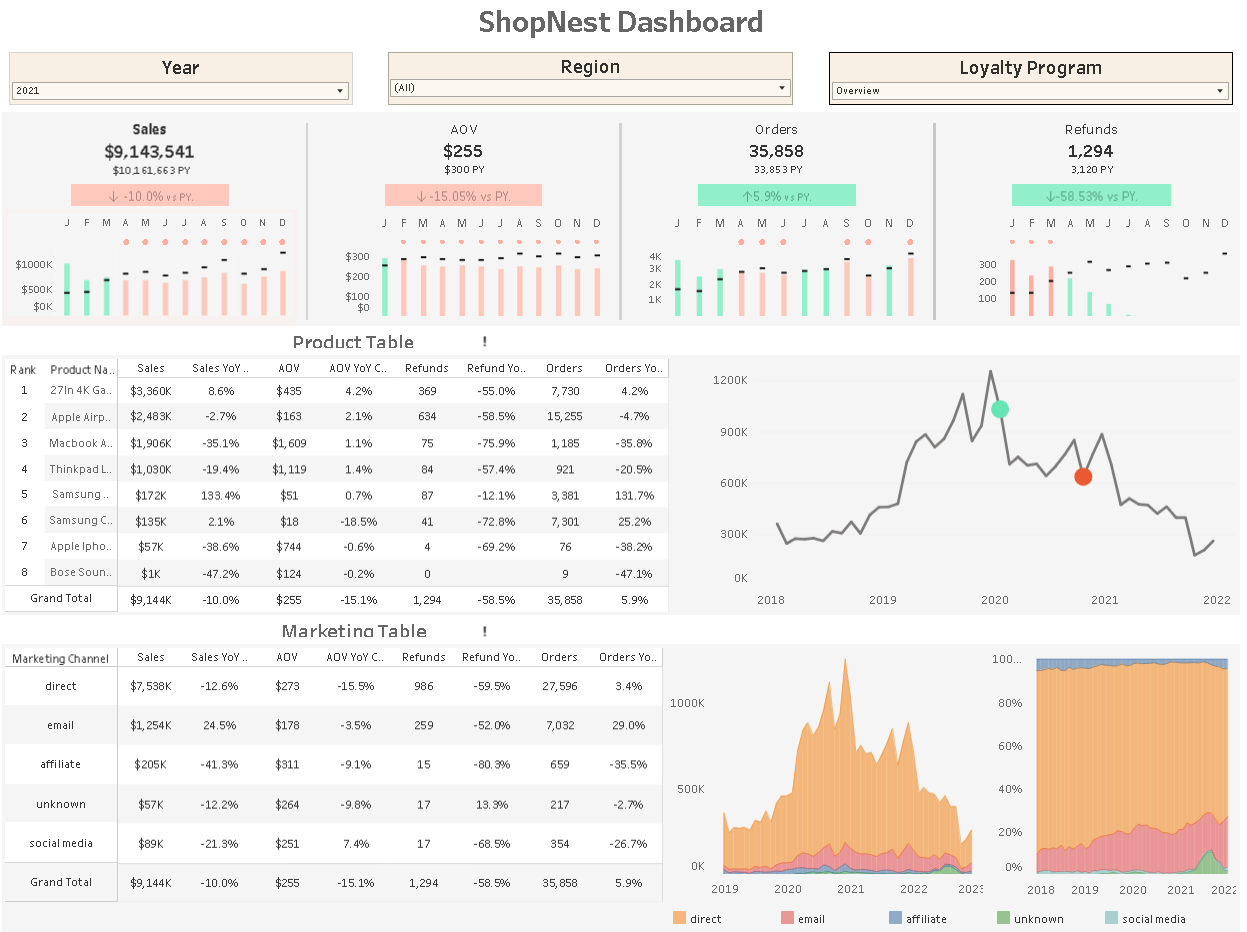

This screenshot's page, from the dashboard's own definition file:
{"tool":"tableau","page":{"name":"E-Commerce Dashboard","canvas":[1466,1068],"ordinal":0},"visuals":[{"type":"blank","box":[8,8,37,1052]},{"type":"text","box":[45,8,1375.8,54]},{"type":"blank","box":[1420.8,8,37.2,1052]},{"type":"parameter","param":"[Parameters].[Parameter 1]","box":[49,66,390,67]},{"type":"blank","box":[439,66,32,67]},{"type":"filter","title":"Sales Text","param":"[federated.0xa2xj31ri3njg17zrqng1dpn05a].[none:REGION:nk]","box":[471,66,456.9,67]},{"type":"blank","box":[927.9,66,32,67]},{"type":"parameter","param":"[Parameters].[Year Selected (copy)_1142506971504132098]","box":[959.9,66,456.9,67]},{"type":"worksheet","title":"Sales Text","mark":"Automatic","box":[47,139,325.7,74]},{"type":"blank","box":[372.7,139,23,234]},{"type":"worksheet","title":"AOV Text","mark":"Automatic","box":[395.7,139,325.7,74]},{"type":"blank","box":[721.4,139,23,234]},{"type":"worksheet","title":"Orders Text","mark":"Automatic","box":[744.4,139,325.7,74]},{"type":"blank","box":[1070.1,139,23,234]},{"type":"worksheet","title":"Refund Text","mark":"Automatic","box":[1093.1,139,325.7,74]},{"type":"blank","box":[47,213,71,32]},{"type":"worksheet","title":"Sales BTN","mark":"Square","box":[118,213,183.7,32]},{"type":"blank","box":[301.7,213,71,32]},{"type":"blank","box":[395.7,213,71,32]},{"type":"worksheet","title":"AOV BTN","mark":"Square","box":[466.7,213,183.7,32]},{"type":"blank","box":[650.4,213,71,32]},{"type":"blank","box":[744.4,213,71,32]},{"type":"worksheet","title":"Orders BTN","mark":"Square","box":[815.4,213,183.7,32]},{"type":"blank","box":[999.1,213,71,32]},{"type":"blank","box":[1093.1,213,71,32]},{"type":"worksheet","title":"Refund BTN","mark":"Square","box":[1164.1,213,183.7,32]},{"type":"blank","box":[1347.8,213,71,32]},{"type":"worksheet","title":"Sales Graph","mark":"Bar","rows":["Calculation_974466410042851328","Selected Year (copy)_974466410043158529"],"cols":["PURCHASE_TS","YoY Change Sign (copy)_974466410044526596"],"box":[47,245,325.7,128]},{"type":"worksheet","title":"AOV Graph","mark":"GanttBar","rows":["Orders Selected Year (copy)_1273955785422471179","Orders Selected Previous Year (copy)_1273955785422450698"],"cols":["PURCHASE_TS","● < Sales (copy)_1273955785422213128"],"box":[395.7,245,325.7,128]},{"type":"worksheet","title":"Orders Graph","mark":"Automatic","rows":["Selected Sales Year (copy)_1273955785416581127","Sales Previous Year  (copy)_1273955785416327171"],"cols":["PURCHASE_TS","● < Sales (copy)_1273955785415774208"],"box":[744.4,245,325.7,128]},{"type":"worksheet","title":"Refund Graph","mark":"Automatic","rows":["Refund Year (copy)_1020628307801571330","Refund Selected Year  (copy)_1020628307802804227"],"cols":["START_OF_PURCHASE_MONTH","● < Sales (copy)_1020628307807887366"],"box":[1093.1,245,325.7,128]},{"type":"blank","box":[49,379,258.4,32]},{"type":"text","box":[307.4,379,258.4,32]},{"type":"worksheet","title":"Product Info Button","mark":"Shape","box":[565.8,379,32,32]},{"type":"blank","box":[597.8,379,819,32]},{"type":"worksheet","title":"Products Table","mark":"Automatic","rows":["Calculation_1343198631543824384","PRODUCT_NAME"],"box":[45,415,746,281.5]},{"type":"worksheet","title":"Updated Product Graph","mark":"Automatic","rows":["Selected Sales Year (copy)_1098878351684214784","Max Selected Year (copy)_1439463073793093637"],"cols":["START_OF_PURCHASE_MONTH"],"box":[791,415,629.8,281.5]},{"type":"blank","box":[49,700.5,258.4,32]},{"type":"text","box":[307.4,700.5,258.4,32]},{"type":"worksheet","title":"Marketing Info Button","mark":"Shape","box":[565.8,700.5,32,32]},{"type":"blank","box":[597.8,700.5,819,32]},{"type":"worksheet","title":"Marketing Table","mark":"Automatic","rows":["MARKETING_CHANNEL"],"box":[45,736.5,739,281.5]},{"type":"worksheet","title":"Market Graph","mark":"Area","rows":["Selected Sales Year (copy)_1098878351684214784"],"cols":["START_OF_PURCHASE_MONTH"],"box":[784,736.5,357,281.5]},{"type":"worksheet","title":"Market Mix Graph","mark":"Area","cols":["START_OF_PURCHASE_MONTH"],"box":[1141,736.5,279.8,281.5]},{"type":"blank","box":[45,1018,739,42]},{"type":"legend","title":"Market Graph","param":"[federated.0xa2xj31ri3njg17zrqng1dpn05a].[none:MARKETING_CHANNEL:nk]","box":[784,1018,636.8,42]}]}

Visuals, with their boxes in screenshot pixels (x1, y1, x2, y2), scaled from the page's 1466x1068 canvas onto the 1247x932 screenshot:
blank: {"left": 7, "top": 7, "right": 38, "bottom": 925}
text: {"left": 38, "top": 7, "right": 1209, "bottom": 54}
blank: {"left": 1209, "top": 7, "right": 1240, "bottom": 925}
parameter: {"left": 42, "top": 58, "right": 373, "bottom": 116}
blank: {"left": 373, "top": 58, "right": 401, "bottom": 116}
"Sales Text" filter: {"left": 401, "top": 58, "right": 789, "bottom": 116}
blank: {"left": 789, "top": 58, "right": 817, "bottom": 116}
parameter: {"left": 817, "top": 58, "right": 1205, "bottom": 116}
"Sales Text" worksheet: {"left": 40, "top": 121, "right": 317, "bottom": 186}
blank: {"left": 317, "top": 121, "right": 337, "bottom": 326}
"AOV Text" worksheet: {"left": 337, "top": 121, "right": 614, "bottom": 186}
blank: {"left": 614, "top": 121, "right": 633, "bottom": 326}
"Orders Text" worksheet: {"left": 633, "top": 121, "right": 910, "bottom": 186}
blank: {"left": 910, "top": 121, "right": 930, "bottom": 326}
"Refund Text" worksheet: {"left": 930, "top": 121, "right": 1207, "bottom": 186}
blank: {"left": 40, "top": 186, "right": 100, "bottom": 214}
"Sales BTN" worksheet (Square marks): {"left": 100, "top": 186, "right": 257, "bottom": 214}
blank: {"left": 257, "top": 186, "right": 317, "bottom": 214}
blank: {"left": 337, "top": 186, "right": 397, "bottom": 214}
"AOV BTN" worksheet (Square marks): {"left": 397, "top": 186, "right": 553, "bottom": 214}
blank: {"left": 553, "top": 186, "right": 614, "bottom": 214}
blank: {"left": 633, "top": 186, "right": 694, "bottom": 214}
"Orders BTN" worksheet (Square marks): {"left": 694, "top": 186, "right": 850, "bottom": 214}
blank: {"left": 850, "top": 186, "right": 910, "bottom": 214}
blank: {"left": 930, "top": 186, "right": 990, "bottom": 214}
"Refund BTN" worksheet (Square marks): {"left": 990, "top": 186, "right": 1146, "bottom": 214}
blank: {"left": 1146, "top": 186, "right": 1207, "bottom": 214}
"Sales Graph" worksheet (Bar marks): {"left": 40, "top": 214, "right": 317, "bottom": 326}
"AOV Graph" worksheet (GanttBar marks): {"left": 337, "top": 214, "right": 614, "bottom": 326}
"Orders Graph" worksheet: {"left": 633, "top": 214, "right": 910, "bottom": 326}
"Refund Graph" worksheet: {"left": 930, "top": 214, "right": 1207, "bottom": 326}
blank: {"left": 42, "top": 331, "right": 261, "bottom": 359}
text: {"left": 261, "top": 331, "right": 481, "bottom": 359}
"Product Info Button" worksheet (Shape marks): {"left": 481, "top": 331, "right": 508, "bottom": 359}
blank: {"left": 508, "top": 331, "right": 1205, "bottom": 359}
"Products Table" worksheet: {"left": 38, "top": 362, "right": 673, "bottom": 608}
"Updated Product Graph" worksheet: {"left": 673, "top": 362, "right": 1209, "bottom": 608}
blank: {"left": 42, "top": 611, "right": 261, "bottom": 639}
text: {"left": 261, "top": 611, "right": 481, "bottom": 639}
"Marketing Info Button" worksheet (Shape marks): {"left": 481, "top": 611, "right": 508, "bottom": 639}
blank: {"left": 508, "top": 611, "right": 1205, "bottom": 639}
"Marketing Table" worksheet: {"left": 38, "top": 643, "right": 667, "bottom": 888}
"Market Graph" worksheet (Area marks): {"left": 667, "top": 643, "right": 971, "bottom": 888}
"Market Mix Graph" worksheet (Area marks): {"left": 971, "top": 643, "right": 1209, "bottom": 888}
blank: {"left": 38, "top": 888, "right": 667, "bottom": 925}
"Market Graph" legend: {"left": 667, "top": 888, "right": 1209, "bottom": 925}
